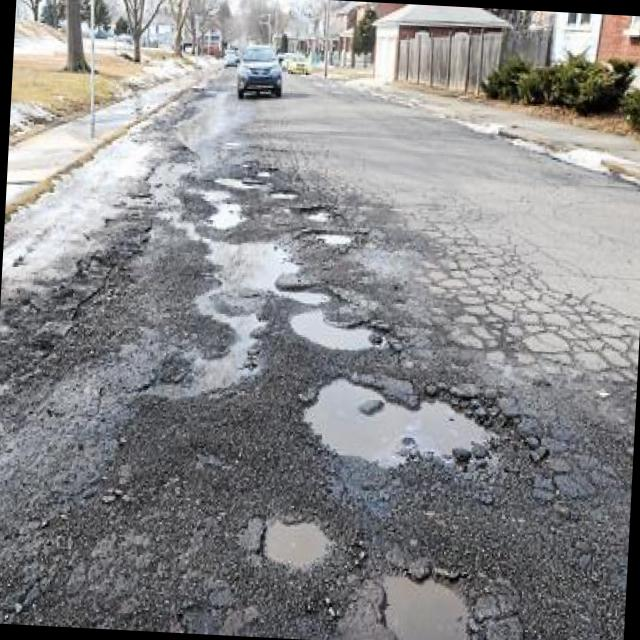Potholes: (162, 123, 306, 410), (286, 361, 524, 469), (370, 548, 511, 640), (253, 514, 347, 580), (300, 213, 361, 260), (244, 158, 284, 193), (301, 200, 348, 228), (264, 178, 304, 206)
